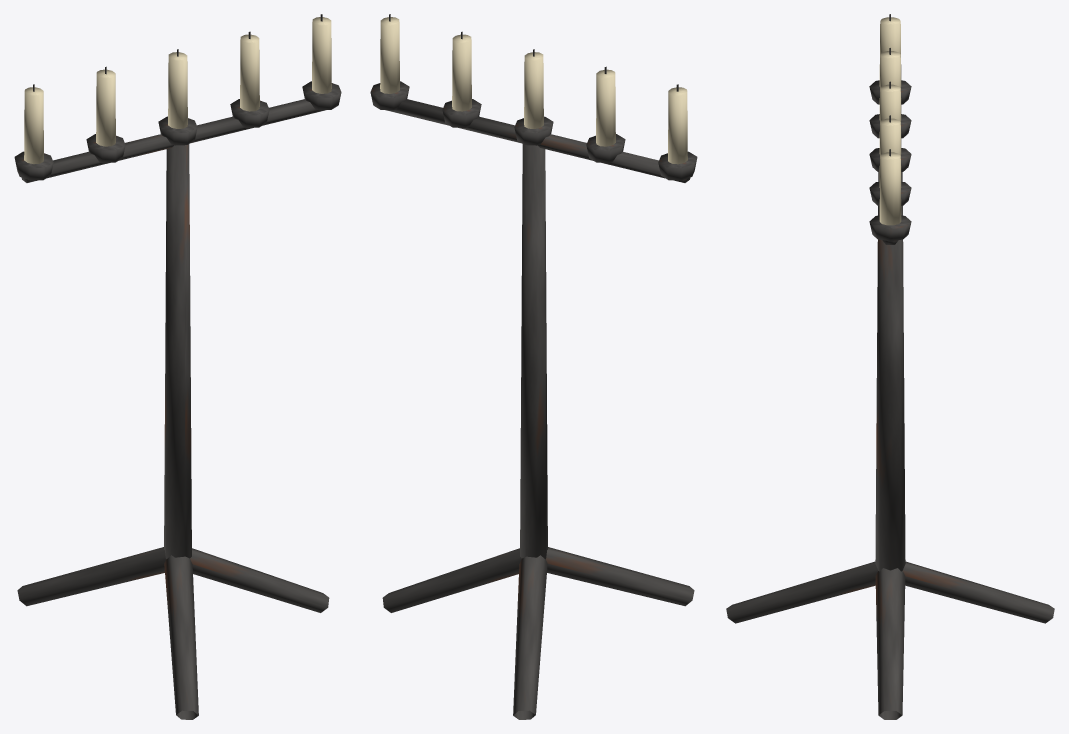
File: CandleStick_Stand.gltf
3 renders of one model, left to right at view 1: azimuth 30°, elevation 25°; view 2: azimuth 150°, elevation 25°; view 3: azimuth 270°, elevation 25°, orthographic. The views are drawn at different scales.
Visible parts, largest first — view 1: CandleStick_Stand; view 2: CandleStick_Stand; view 3: CandleStick_Stand.
Part boxes in pixels (x1=…): CandleStick_Stand: x1=14, y1=14, x2=341, y2=719; CandleStick_Stand: x1=370, y1=14, x2=697, y2=719; CandleStick_Stand: x1=726, y1=14, x2=1054, y2=719.
Size of the model in its own units: 0.74 by 1.31 by 0.6813.
Materials: 2 (2 with a texture image).
